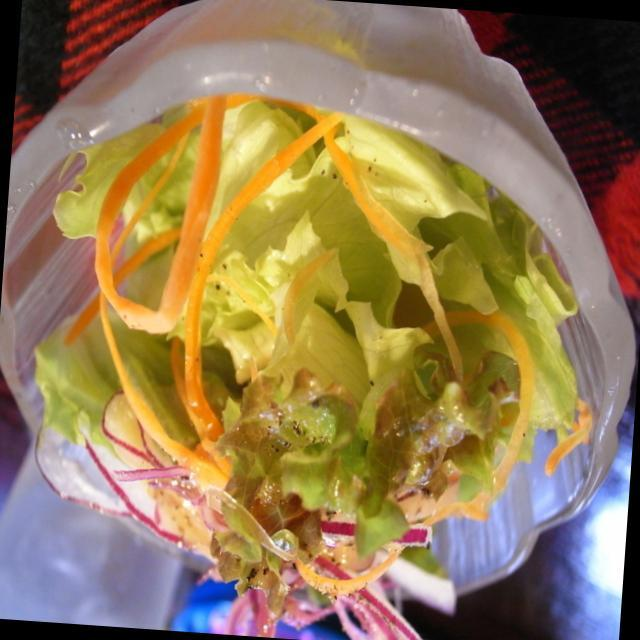Green Salad: (0, 0, 640, 623)
